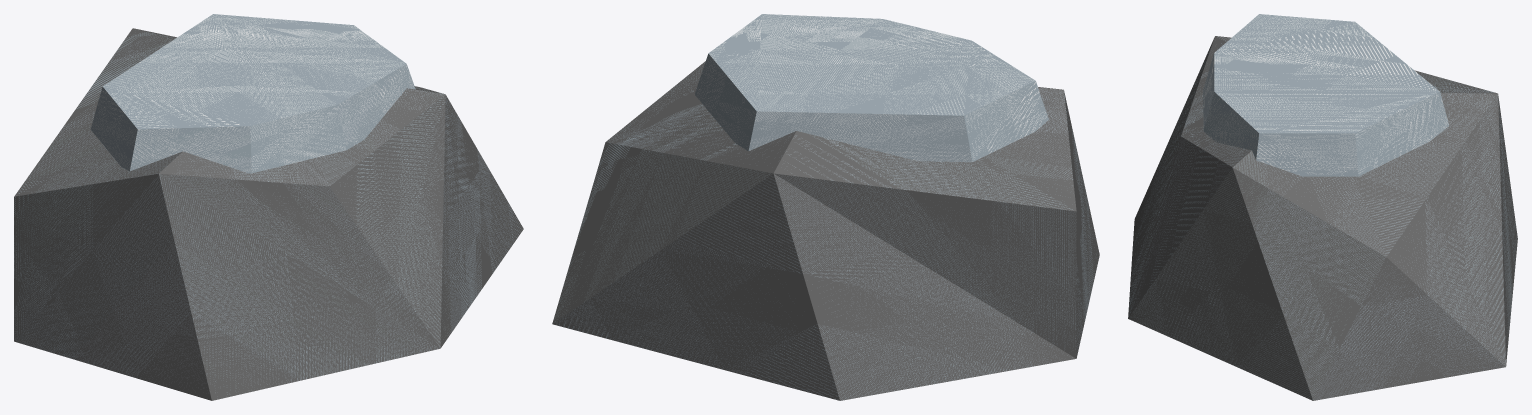
Rendered from Rock_Small_Snow_01.fbx.
3 renders of one model, left to right at view 1: azimuth 30°, elevation 25°; view 2: azimuth 150°, elevation 25°; view 3: azimuth 270°, elevation 25°, orthographic. The views are drawn at different scales.
Visible parts, largest first — view 1: Model; view 2: Model; view 3: Model.
Part boxes in pixels (x1,y1,x2,y2): Model: [14, 14, 523, 400]; Model: [552, 14, 1099, 400]; Model: [1128, 14, 1517, 400].
Bounding box in the file's own units: 232 × 124 × 173.
